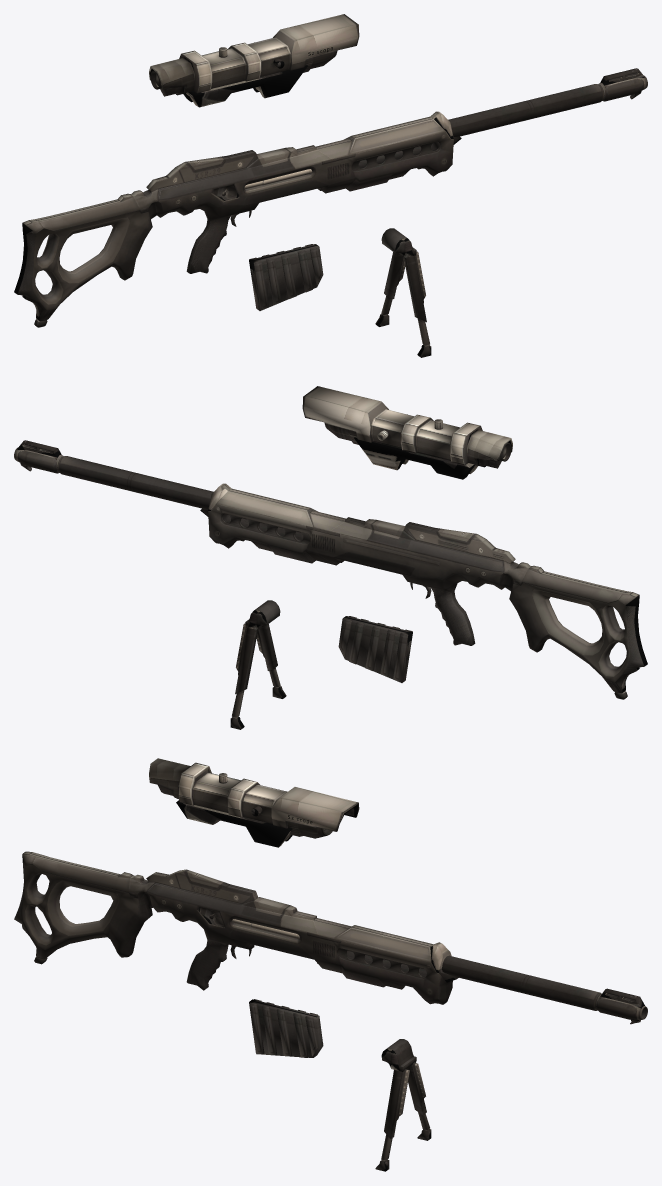
Rendered from Sniper.gltf.
The picture shows the model from 3 angles, top to bottom: view 1: azimuth 30°, elevation 25°; view 2: azimuth 150°, elevation 25°; view 3: azimuth 330°, elevation 25°; orthographic projection.
Visible parts, largest first — view 1: Cube, Cube.003, Cube.001, Cube.002; view 2: Cube, Cube.003, Cube.001, Cube.002; view 3: Cube, Cube.003, Cube.001, Cube.002.
Boxes of the visible parts, x1,y1,x2,y2 form: Cube: [14, 68, 647, 327]; Cube.003: [149, 14, 359, 107]; Cube.001: [249, 244, 323, 310]; Cube.002: [375, 228, 431, 357]; Cube: [14, 440, 647, 699]; Cube.003: [302, 386, 512, 479]; Cube.001: [338, 616, 412, 682]; Cube.002: [230, 600, 286, 729]; Cube: [14, 851, 647, 1024]; Cube.003: [149, 758, 359, 847]; Cube.001: [249, 999, 323, 1057]; Cube.002: [375, 1039, 431, 1171].
Size of the model in its own units: 9.81 by 4.99 by 1.23.
4 materials, 4 textured.
